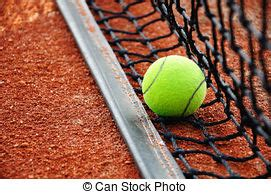tennis_ball: (141, 54, 207, 119)
